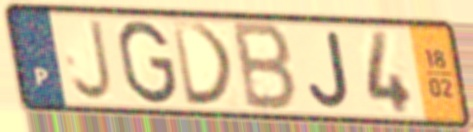4: (364, 28, 416, 117)
B: (231, 19, 300, 116)
D: (168, 19, 239, 109)
G: (115, 18, 180, 107)
J: (69, 17, 117, 104), (305, 28, 353, 111)
